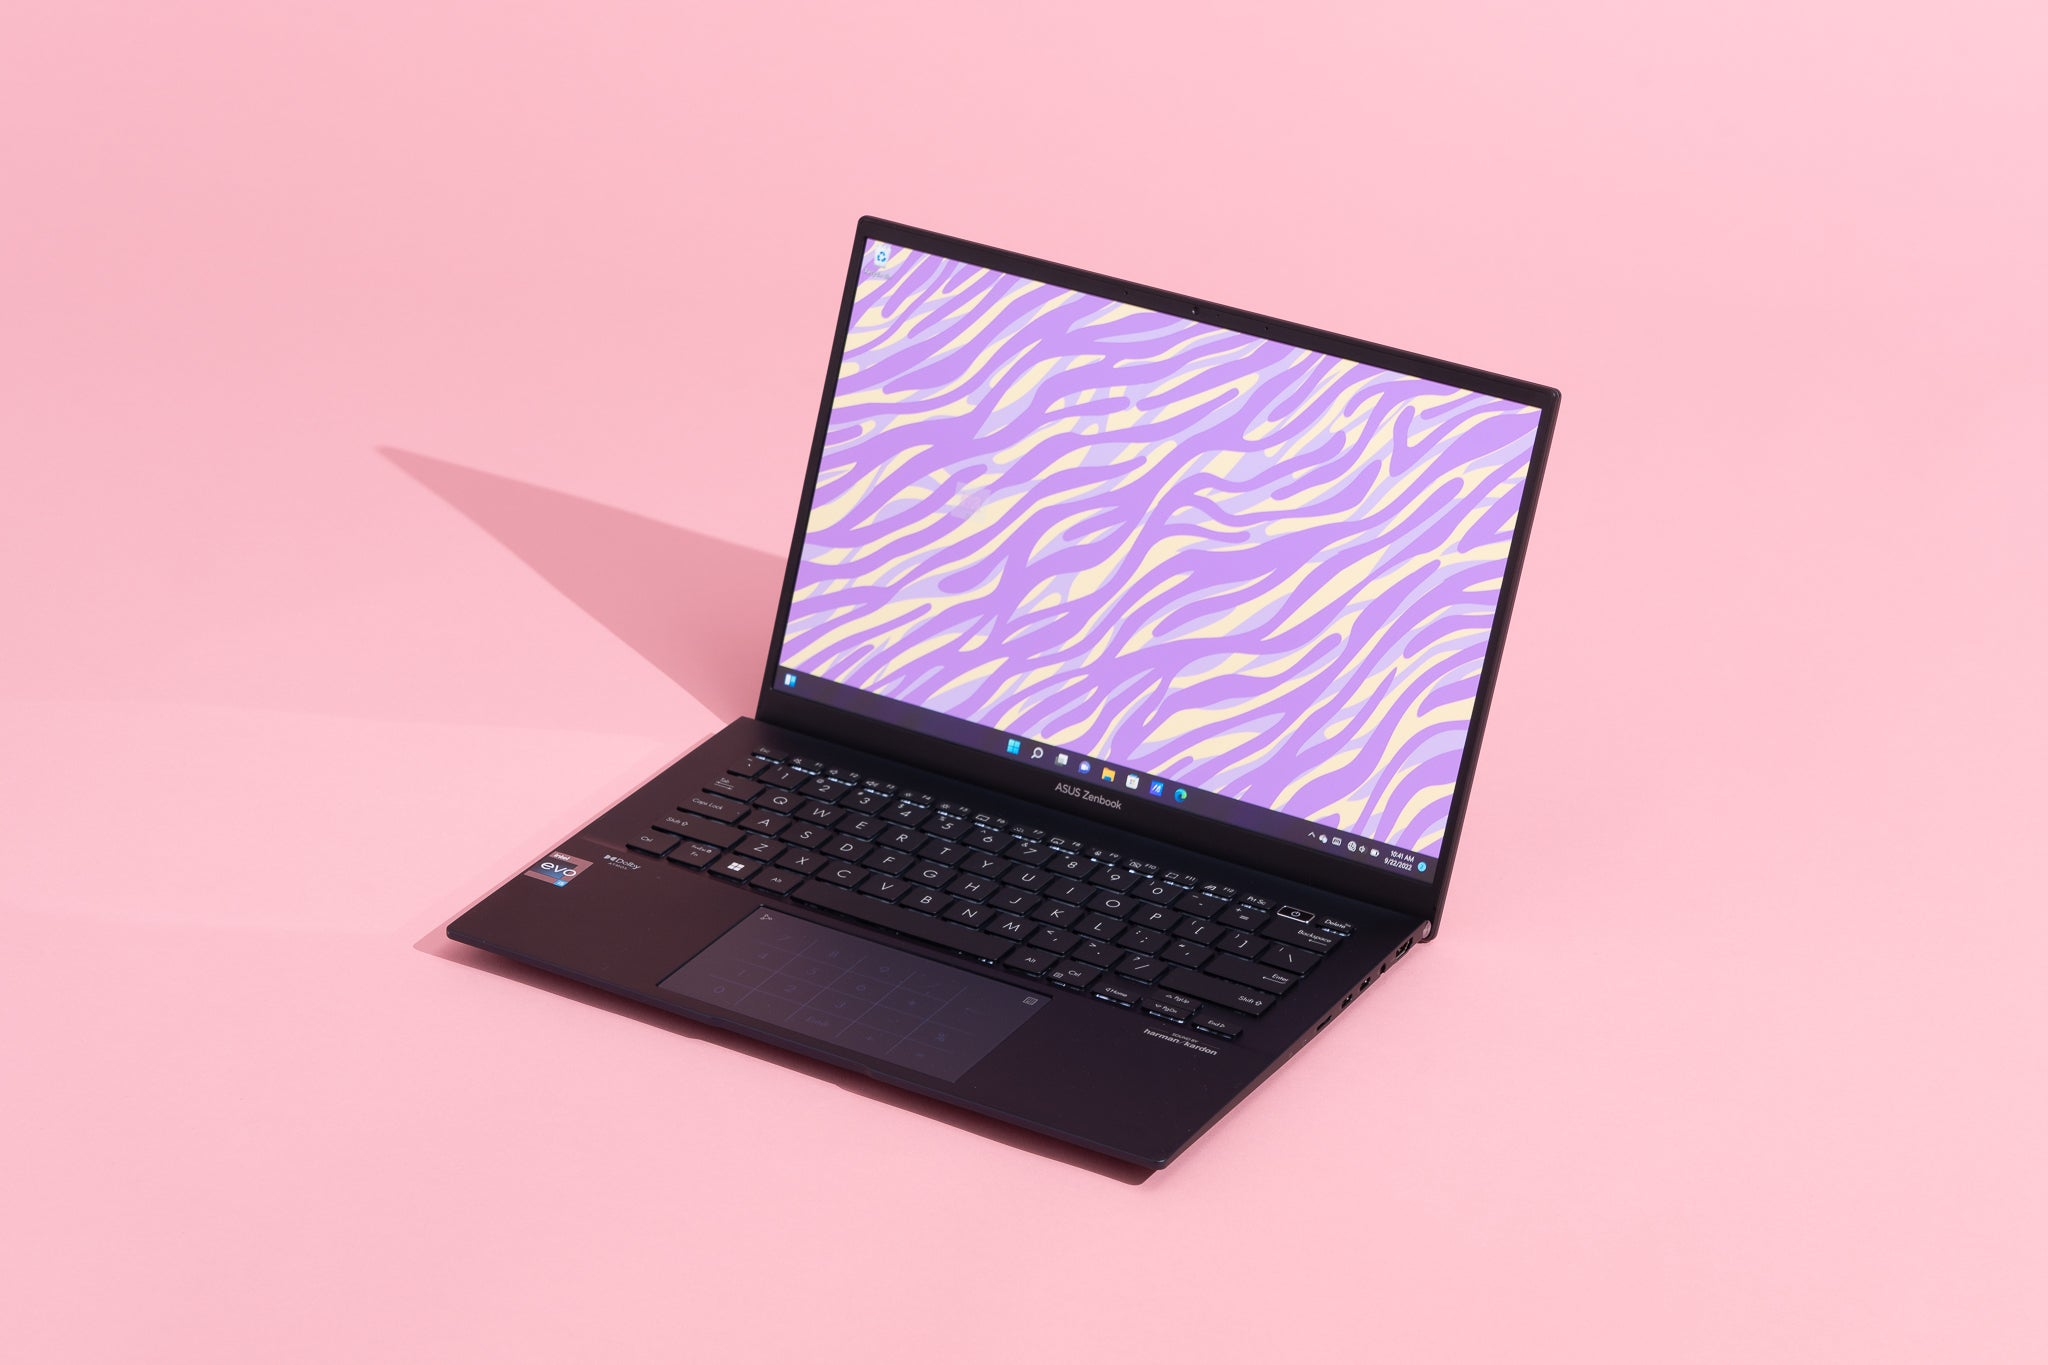laptop: (439, 222, 1556, 1190)
